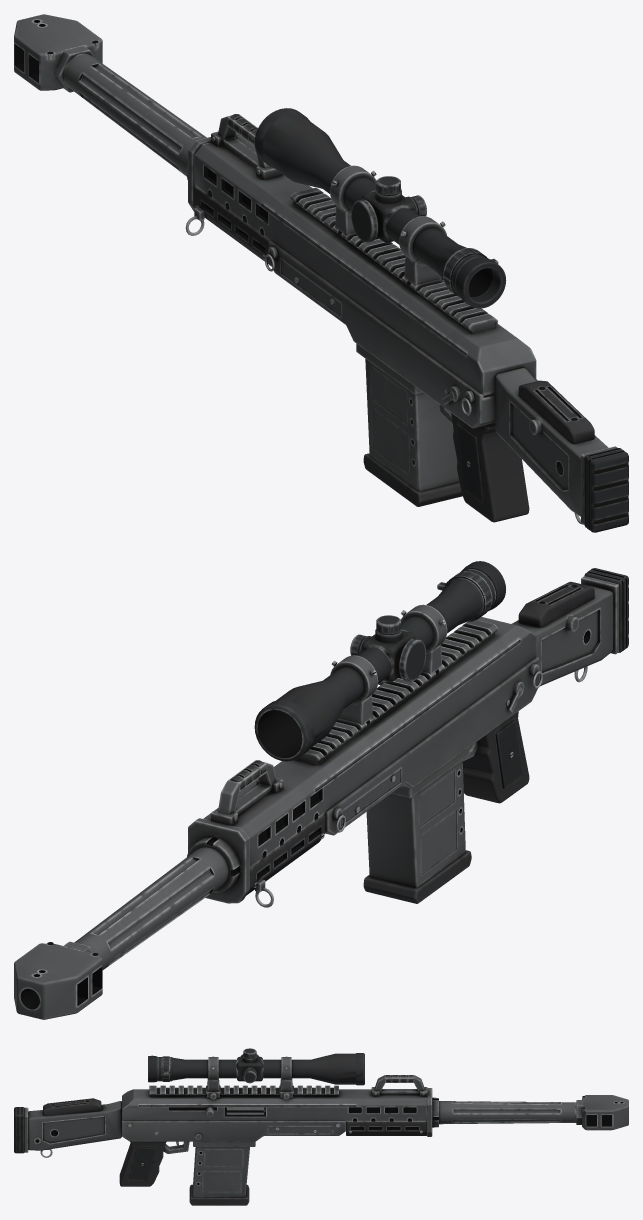
Rendered from barrett-fp.glb.
3 views of the same model, one above another, from view 1: azimuth 30°, elevation 25°; view 2: azimuth 150°, elevation 25°; view 3: azimuth 270°, elevation 25° (orthographic). The views are drawn at different scales.
Visible parts, largest first — view 1: heavy-rifle, mag-mesh; view 2: heavy-rifle, mag-mesh; view 3: heavy-rifle, mag-mesh, bolt-mesh.
Boxes of the visible parts, x1,y1,x2,y2 form: heavy-rifle: (14, 14, 628, 532); mag-mesh: (363, 359, 462, 506); heavy-rifle: (14, 561, 628, 1019); mag-mesh: (363, 761, 471, 903); heavy-rifle: (14, 1048, 628, 1186); mag-mesh: (189, 1147, 249, 1205); bolt-mesh: (206, 1107, 264, 1117).
Size of the model in its own units: 0.0912 by 0.2657 by 1.
1 material, 1 textured.
